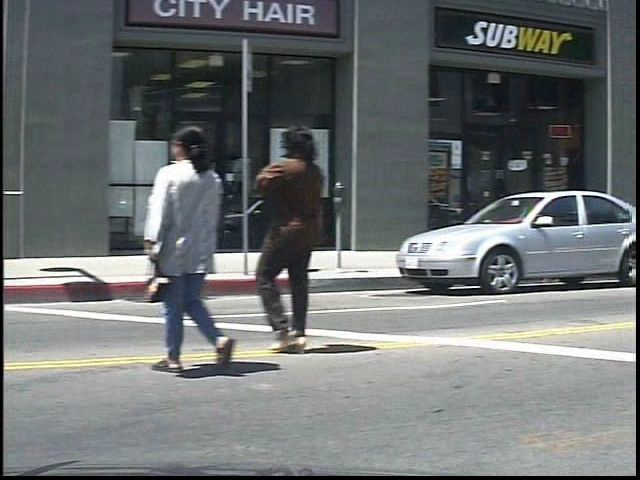person: (154, 121, 259, 375), (260, 119, 343, 356)
